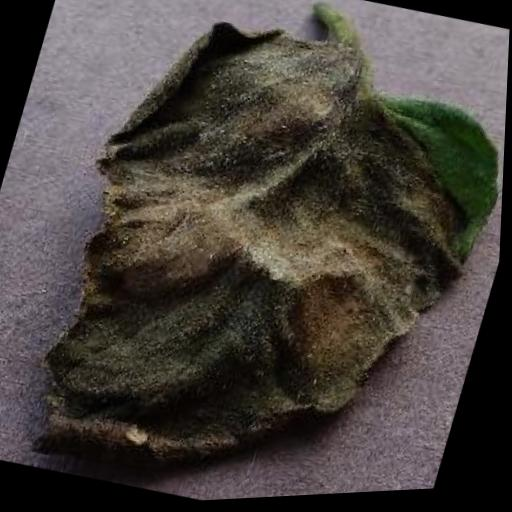Late Blight: (12, 0, 512, 511)
